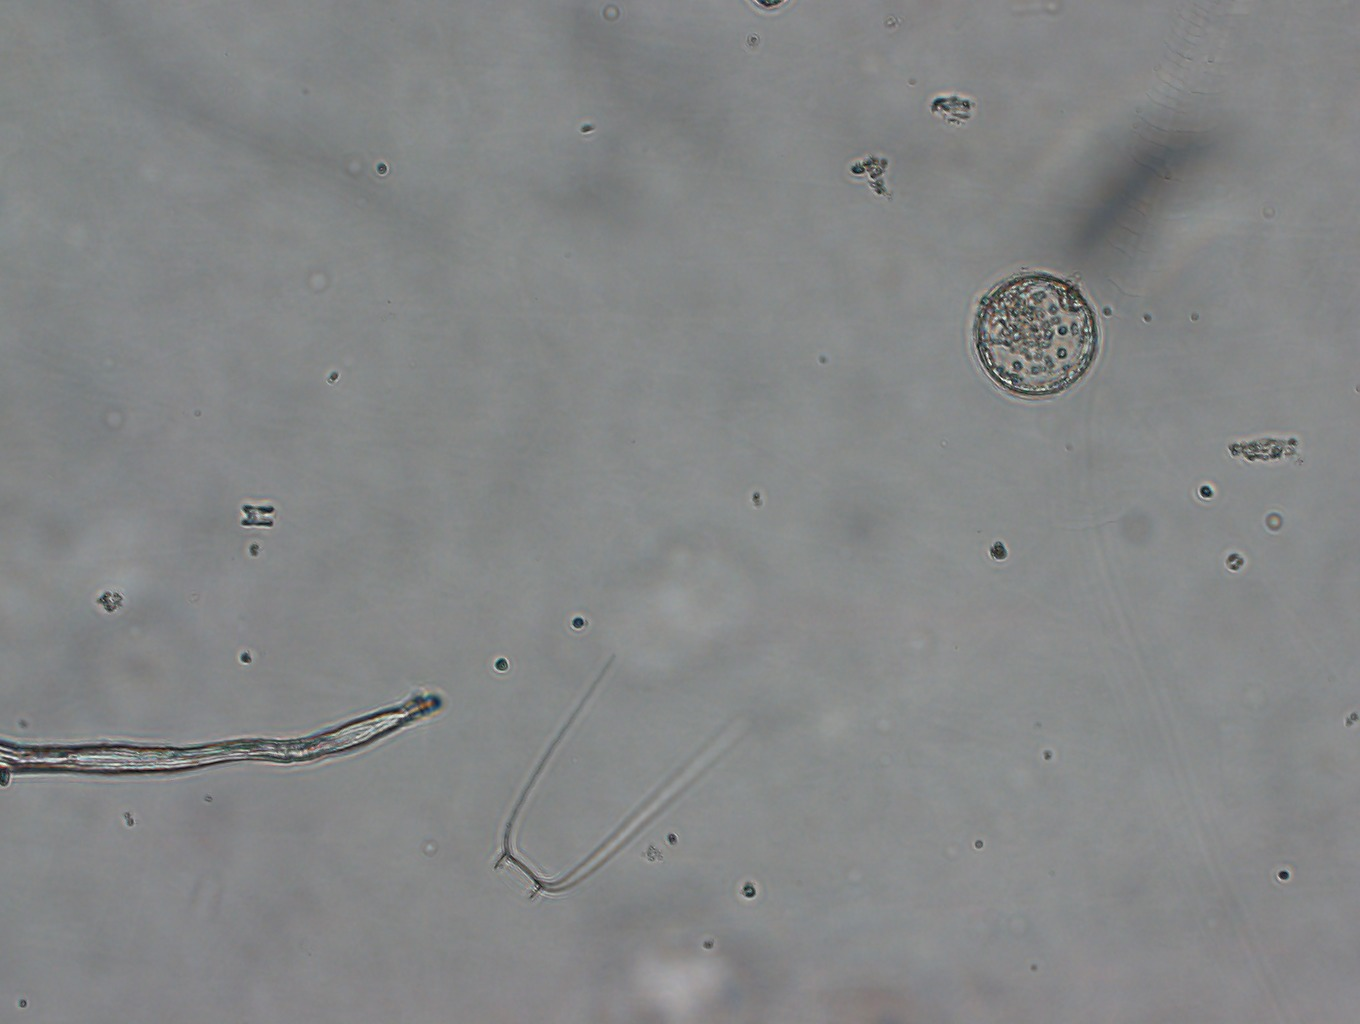chaetoceros: (473, 660, 724, 915)
coscinodiscus: (962, 264, 1110, 411)
